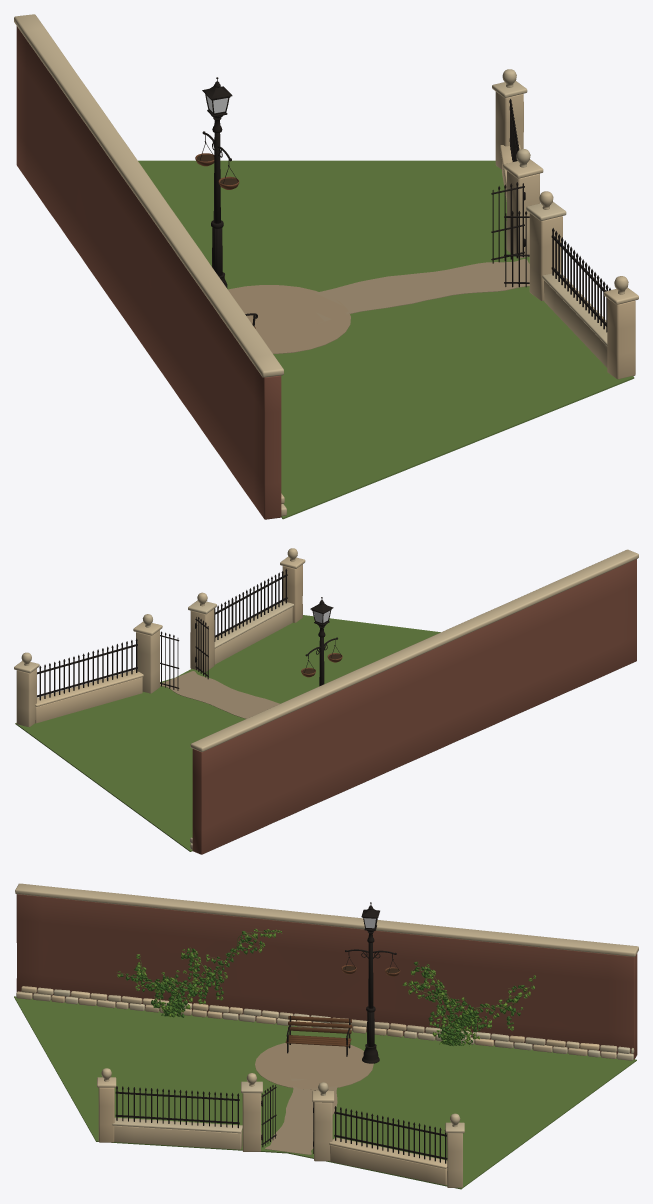
File: gate_park.glb
The picture shows the model from 3 angles, top to bottom: view 1: azimuth 30°, elevation 25°; view 2: azimuth 150°, elevation 25°; view 3: azimuth 270°, elevation 25°; orthographic projection. The views are drawn at different scales.
Parts seen in each view (by area): view 1: Sammel Blatt, Sammel Ziegel, Sammel Stein, Sammel Quader, Sammel Metall; view 2: Sammel Ziegel, Sammel Blatt, Sammel Stein, Sammel Quader, Sammel Metall; view 3: Sammel Ziegel, Sammel Blatt, Sammel Stein, Sammel Quader, Sammel Pflanze immergrün, Sammel Metall, Sammel Holz, Sammel Putz.
Boxes of the visible parts, x1,y1,x2,y2 form: Sammel Blatt: [138, 160, 634, 519]; Sammel Ziegel: [16, 26, 281, 519]; Sammel Stein: [14, 14, 638, 516]; Sammel Quader: [495, 91, 635, 379]; Sammel Metall: [199, 77, 610, 332]; Sammel Ziegel: [192, 559, 636, 854]; Sammel Blatt: [15, 615, 440, 851]; Sammel Stein: [14, 548, 638, 849]; Sammel Quader: [16, 564, 302, 727]; Sammel Metall: [37, 569, 341, 700]; Sammel Ziegel: [16, 894, 637, 1059]; Sammel Blatt: [14, 996, 636, 1189]; Sammel Stein: [15, 883, 638, 1168]; Sammel Quader: [98, 1087, 462, 1187]; Sammel Pflanze immergrün: [117, 928, 535, 1046]; Sammel Metall: [115, 902, 447, 1163]; Sammel Holz: [285, 965, 400, 1046]; Sammel Putz: [118, 931, 533, 1043].
Bounding box in the file's own units: 10.66 × 4.03 × 14.21.
